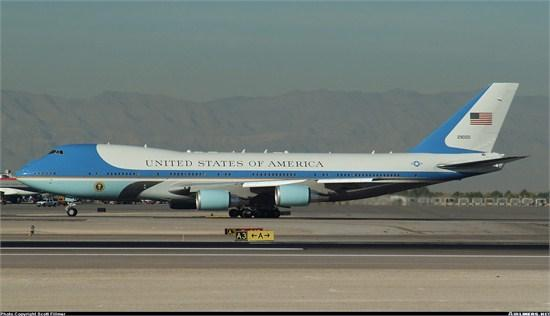airplane: (7, 77, 534, 219)
